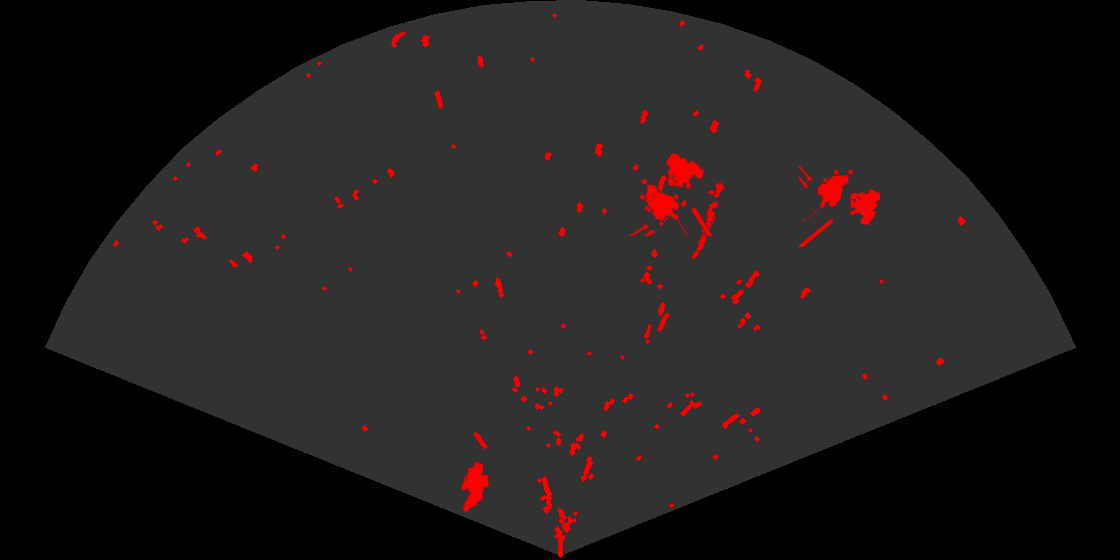AUV: (459, 460, 491, 514)
cage: (628, 151, 715, 236), (799, 164, 882, 247)
chain: (690, 179, 726, 262)
